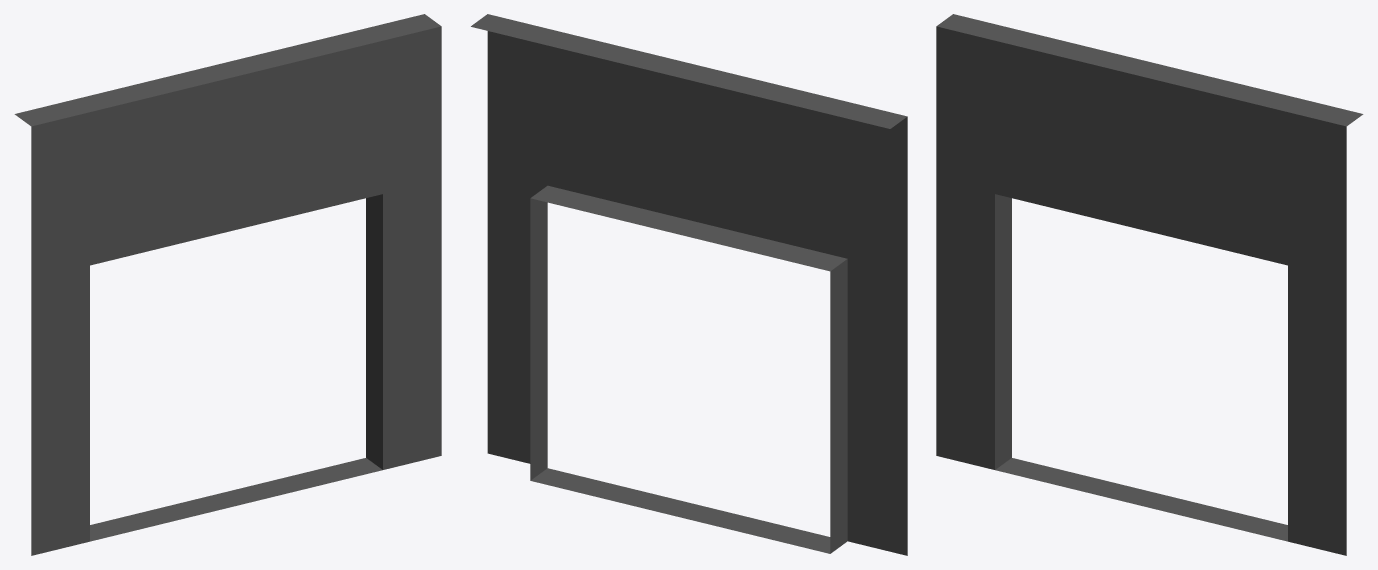
The model's file is M_WallDoor150DWhite40.fbx.
3 views of the same model, side by side, from view 1: azimuth 30°, elevation 25°; view 2: azimuth 150°, elevation 25°; view 3: azimuth 330°, elevation 25° (orthographic). The views are drawn at different scales.
Visible parts, largest first — view 1: M_WallDoor150DWhite40; view 2: M_WallDoor150DWhite40; view 3: M_WallDoor150DWhite40.
Boxes of the visible parts, left/top/right/bottom form: M_WallDoor150DWhite40: left=14, top=14, right=441, bottom=555; M_WallDoor150DWhite40: left=471, top=14, right=907, bottom=555; M_WallDoor150DWhite40: left=936, top=14, right=1363, bottom=555.
Size of the model in its own units: 350 by 25 by 350.
